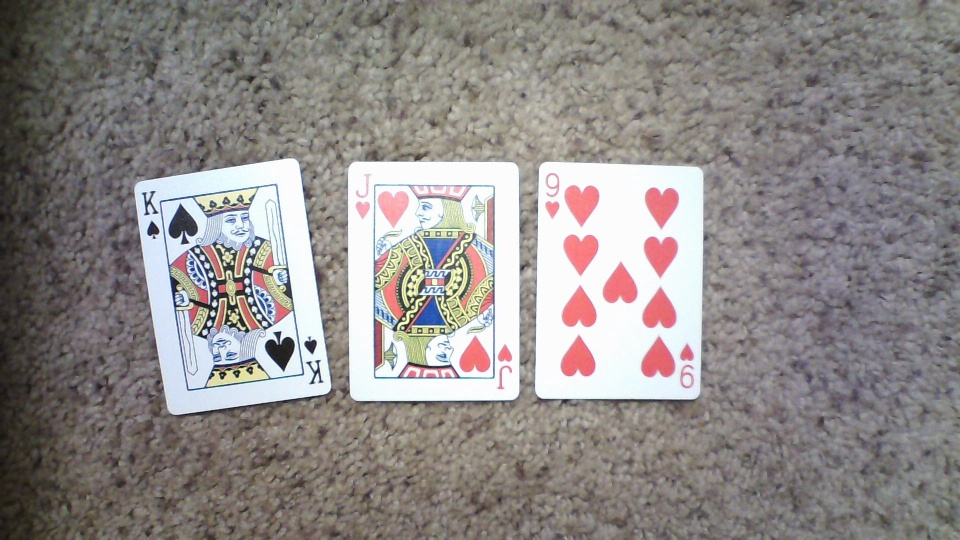jack: (346, 159, 521, 402)
king: (134, 156, 332, 412)
nine: (534, 158, 702, 400)
